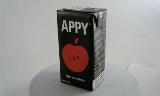appy: (52, 5, 101, 92)
